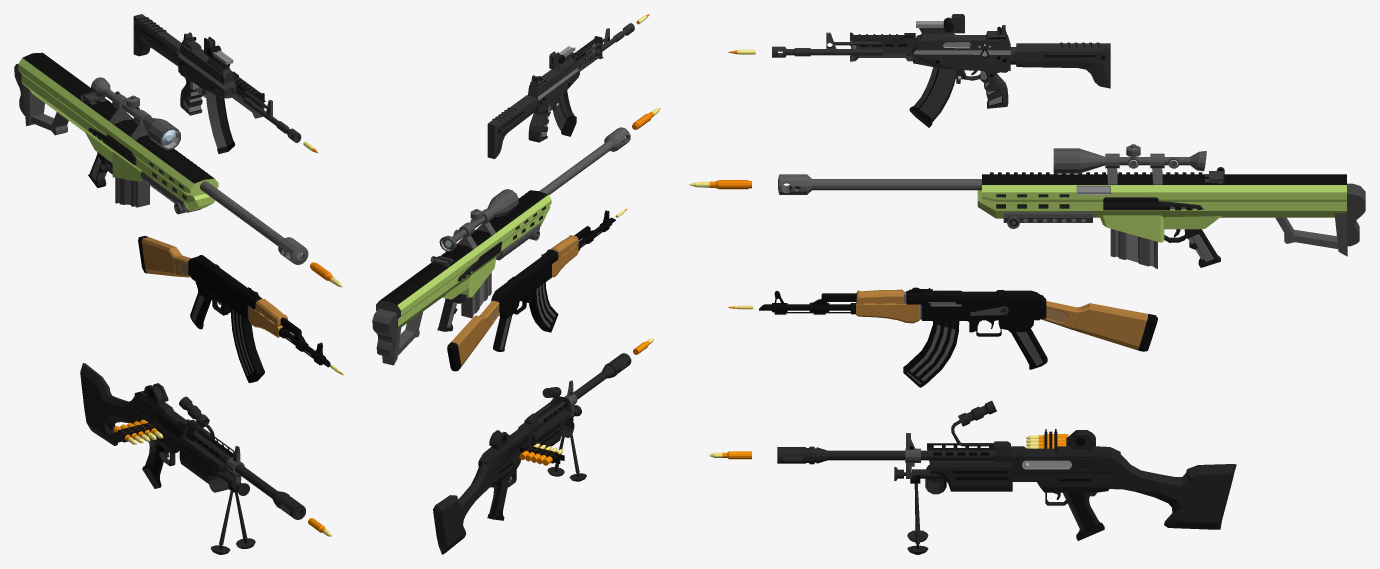
Rendered from lp_mini_pack_modern_weaponswith_bullets_part_2.glb.
3 renders of one model, left to right at view 1: azimuth 30°, elevation 25°; view 2: azimuth 150°, elevation 25°; view 3: azimuth 270°, elevation 25°, orthographic. The views are drawn at different scales.
Visible parts, largest first — view 1: Gun.008, Gun.010, Gun.009, Gun.007, Gun.010.Bullets; view 2: Gun.008, Gun.010, Gun.009, Gun.007, Gun.010.Bullets; view 3: Gun.008, Gun.010, Gun.009, Gun.007.
Part boxes in pixels (<box>): Gun.008: <box>14,52,308,264</box>; Gun.010: <box>80,363,305,554</box>; Gun.009: <box>138,236,330,383</box>; Gun.007: <box>133,14,301,153</box>; Gun.010.Bullets: <box>111,419,163,444</box>; Gun.008: <box>372,127,630,365</box>; Gun.010: <box>433,353,631,554</box>; Gun.009: <box>447,210,615,371</box>; Gun.007: <box>487,23,634,158</box>; Gun.010.Bullets: <box>519,443,564,465</box>; Gun.008: <box>778,144,1365,268</box>; Gun.010: <box>777,400,1236,554</box>; Gun.009: <box>759,287,1157,387</box>; Gun.007: <box>772,14,1110,127</box>.
Bounding box in the file's own units: 1.9 × 10.7 × 12.37.
Materials: 1 (1 with a texture image).
